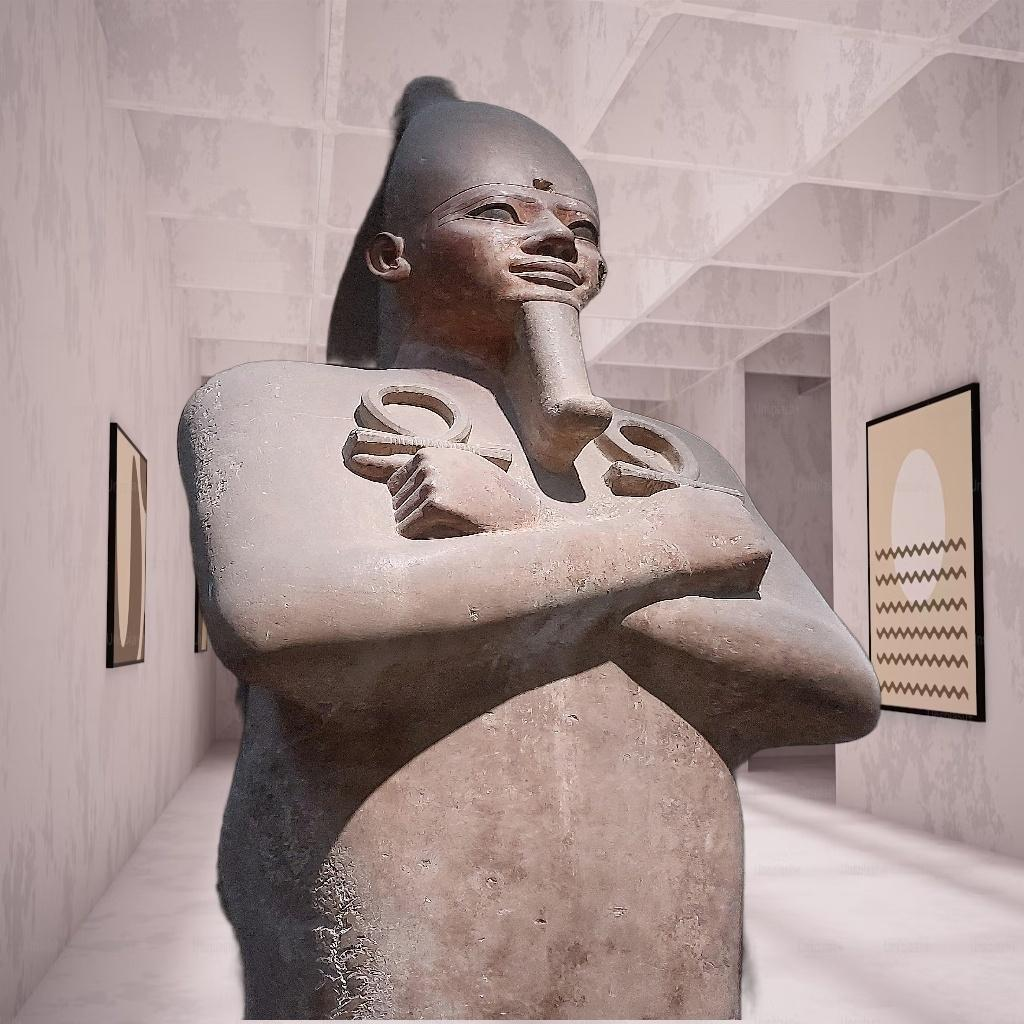Colossus of Senuseret I: (132, 74, 888, 1020)
